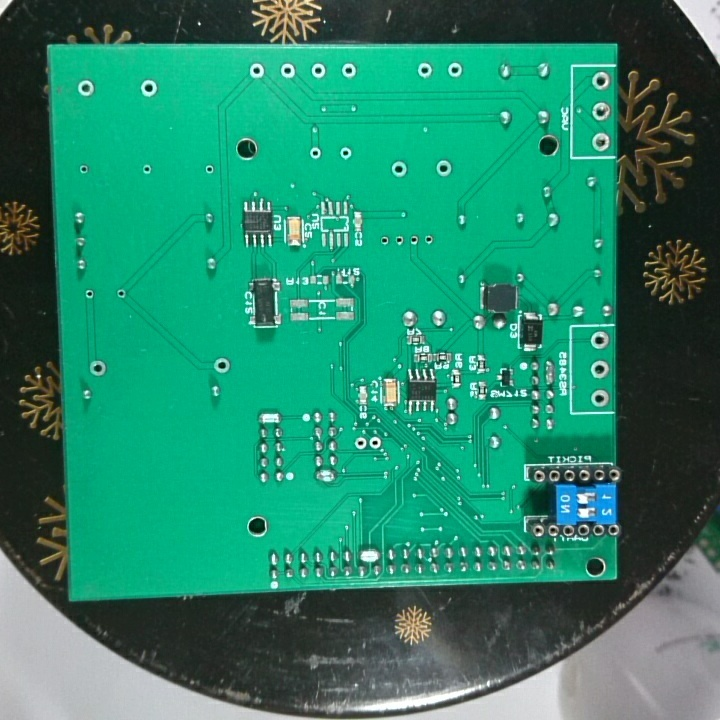F: (588, 129, 611, 154), (74, 77, 97, 100), (589, 69, 612, 92), (85, 357, 108, 380), (245, 60, 269, 82), (590, 100, 612, 123), (588, 329, 610, 352), (588, 360, 611, 382), (588, 387, 610, 410), (137, 76, 159, 98), (388, 158, 410, 180), (211, 355, 234, 376), (432, 157, 453, 179), (338, 60, 361, 80), (414, 59, 434, 81), (277, 60, 298, 80), (307, 60, 328, 80), (445, 60, 465, 80), (306, 143, 325, 162), (337, 143, 354, 163), (368, 431, 382, 454), (76, 160, 93, 177), (82, 285, 98, 303), (139, 160, 155, 177), (202, 160, 217, 178), (353, 435, 368, 452), (406, 231, 420, 248), (115, 285, 130, 300), (377, 232, 391, 248), (422, 231, 434, 249), (392, 232, 402, 249)
P: (254, 409, 285, 427), (357, 546, 382, 564), (543, 357, 555, 388), (314, 469, 337, 485)
